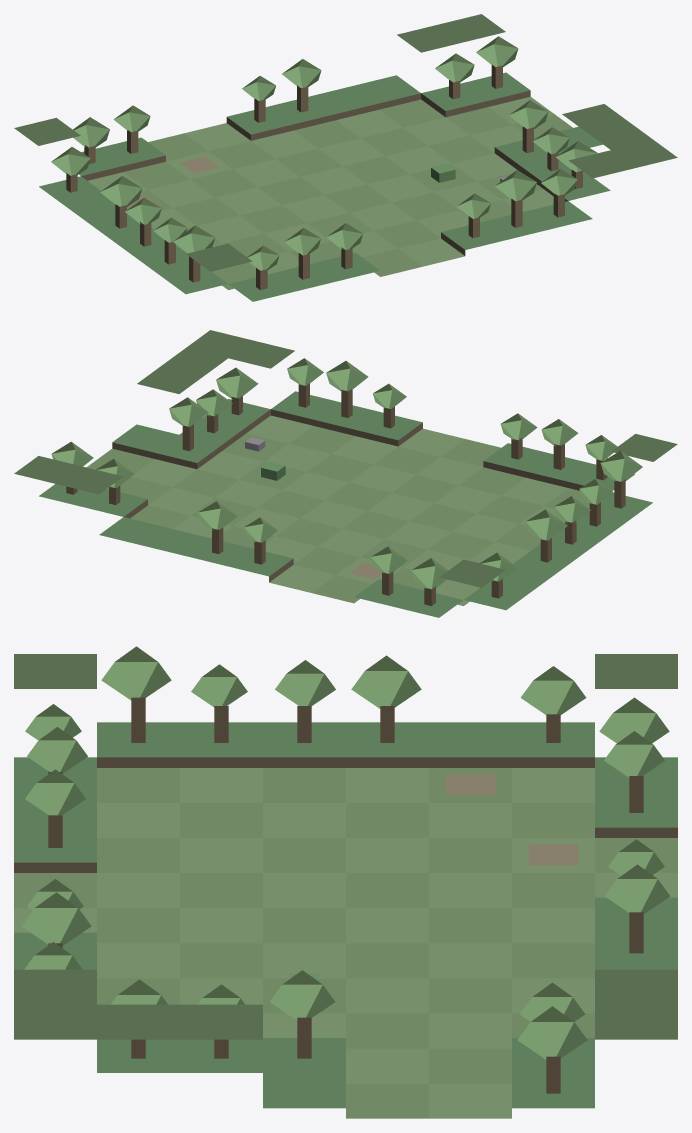
The picture shows the model from 3 angles, top to bottom: view 1: azimuth 30°, elevation 25°; view 2: azimuth 150°, elevation 25°; view 3: azimuth 270°, elevation 25°; orthographic projection. The views are drawn at different scales.
Visible parts, largest first — view 1: mesh0; view 2: mesh0; view 3: mesh0.
Boxes of the visible parts, <box> form: mesh0: <box>14,14,677,301</box>; mesh0: <box>14,330,677,617</box>; mesh0: <box>14,646,677,1118</box>.
Bounding box in the file's own units: 11 × 1.38 × 8.
